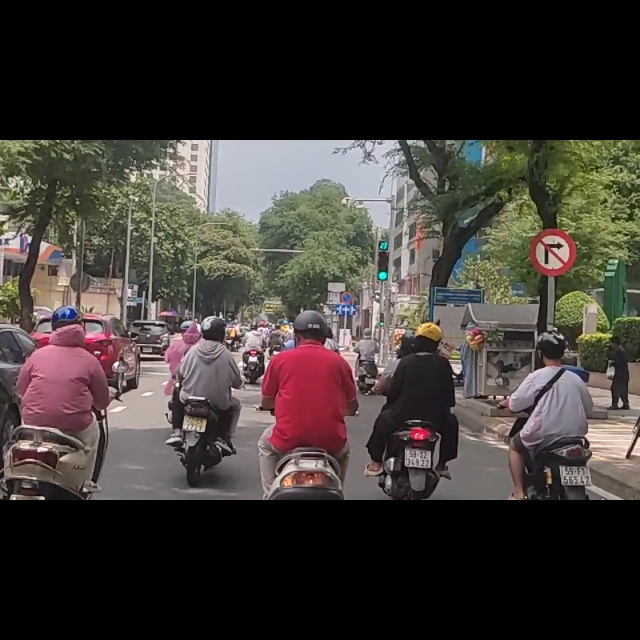bien_cam: (529, 158, 576, 242), (337, 267, 353, 292)
